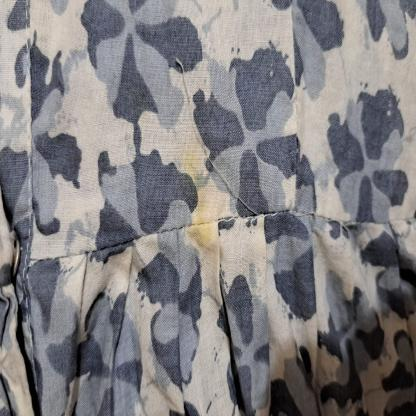spot: (184, 152, 216, 250)
